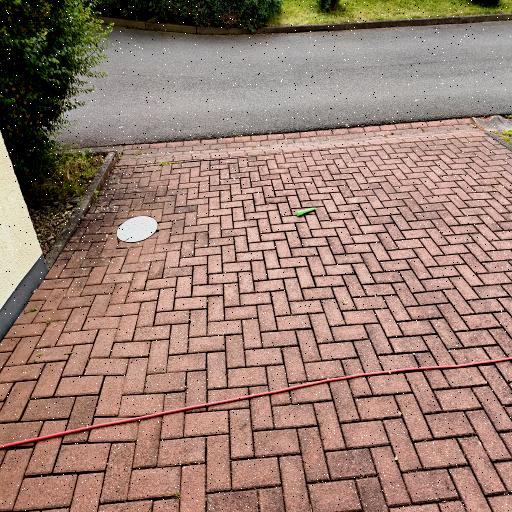Probe-Detection: (296, 208, 316, 216)
